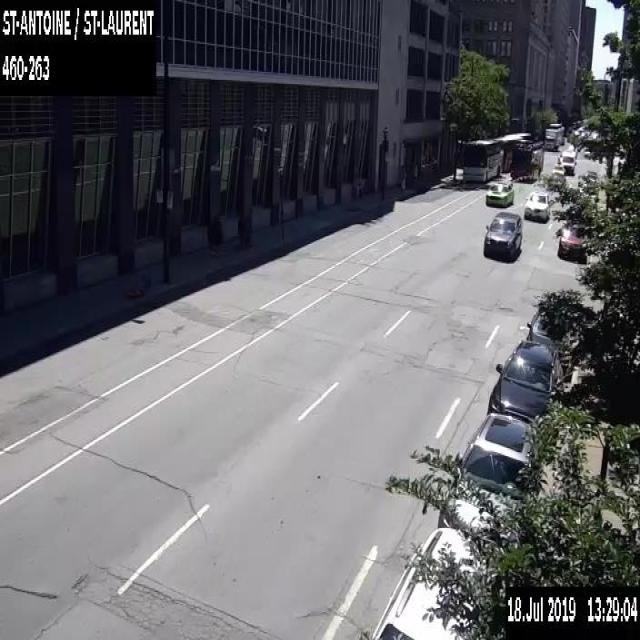bus: (462, 138, 502, 182), (510, 138, 544, 181), (494, 136, 522, 172), (504, 131, 530, 139)
vehicle: (370, 526, 506, 638), (437, 411, 538, 548), (487, 338, 562, 424), (526, 308, 572, 382), (482, 211, 522, 259), (558, 224, 586, 260), (524, 190, 551, 220), (485, 180, 513, 206), (544, 122, 563, 150), (558, 148, 576, 172), (582, 181, 598, 199), (552, 156, 564, 176), (583, 168, 598, 184)
